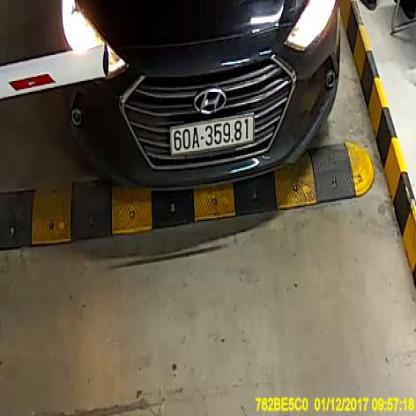biensoxe: (170, 114, 255, 156)
